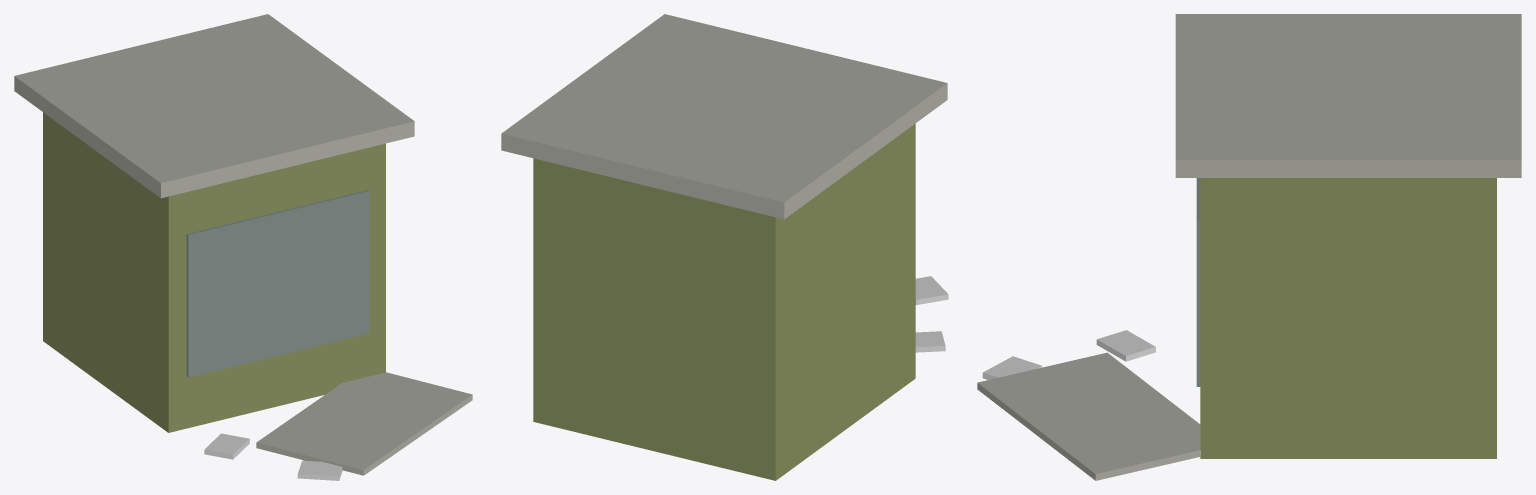
Rendered from SM_Quiosco_v3_Saqueado_LOD1.fbx.
3 renders of one model, left to right at view 1: azimuth 30°, elevation 25°; view 2: azimuth 150°, elevation 25°; view 3: azimuth 270°, elevation 25°, orthographic. The views are drawn at different scales.
Parts seen in each view (by area): view 1: SM_urbano_extra_v13_LOD1; view 2: SM_urbano_extra_v13_LOD1; view 3: SM_urbano_extra_v13_LOD1.
Part boxes in pixels (<box>): SM_urbano_extra_v13_LOD1: <box>14,14,472,480</box>; SM_urbano_extra_v13_LOD1: <box>501,14,948,480</box>; SM_urbano_extra_v13_LOD1: <box>977,14,1521,480</box>.
Bounding box in the file's own units: 3.07 × 2.76 × 4.41.
